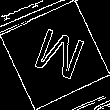M_S: (25, 23, 85, 87)
